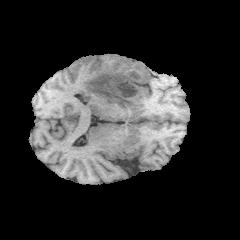glioma: (76, 60, 152, 108)
